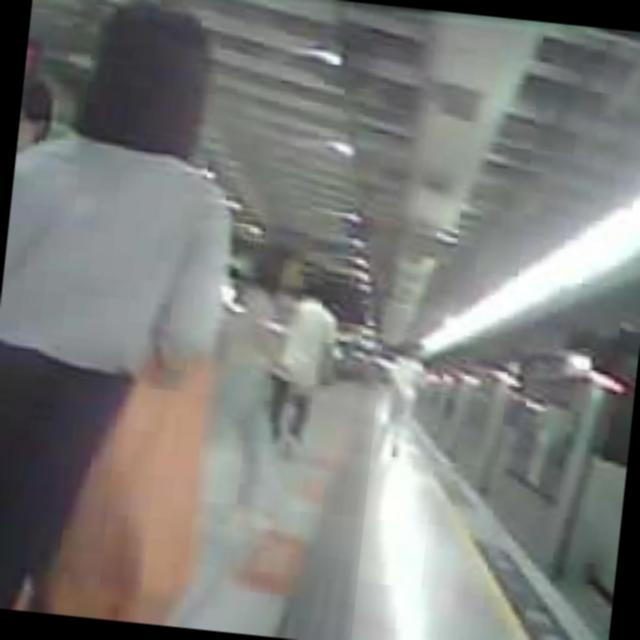person: (0, 0, 248, 627), (200, 237, 314, 538), (259, 283, 346, 457), (381, 331, 432, 459)
